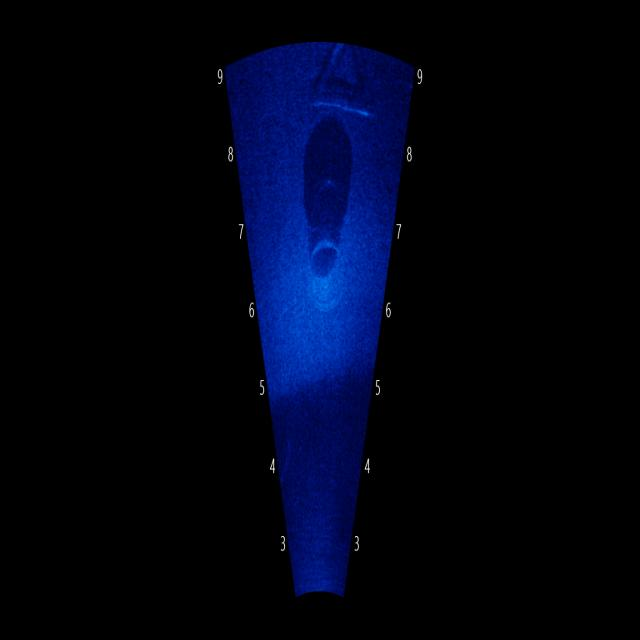circle: (300, 209, 358, 353)
triangle: (294, 44, 380, 134)
